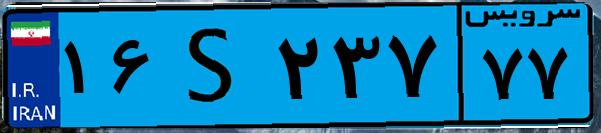1: (57, 26, 110, 100)
2: (270, 28, 330, 110)
3: (330, 28, 385, 110)
6: (110, 28, 158, 98)
7: (385, 28, 445, 110), (475, 38, 525, 113), (525, 38, 570, 115)
S: (158, 12, 270, 120)
